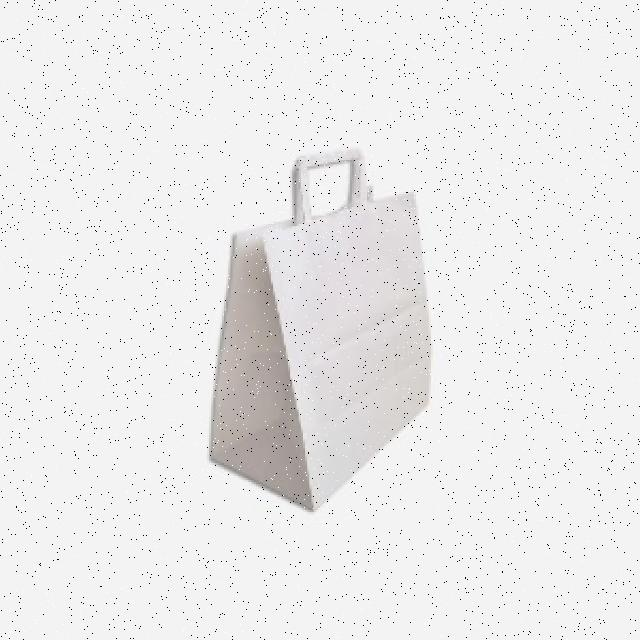paper bag: (187, 140, 445, 528)
